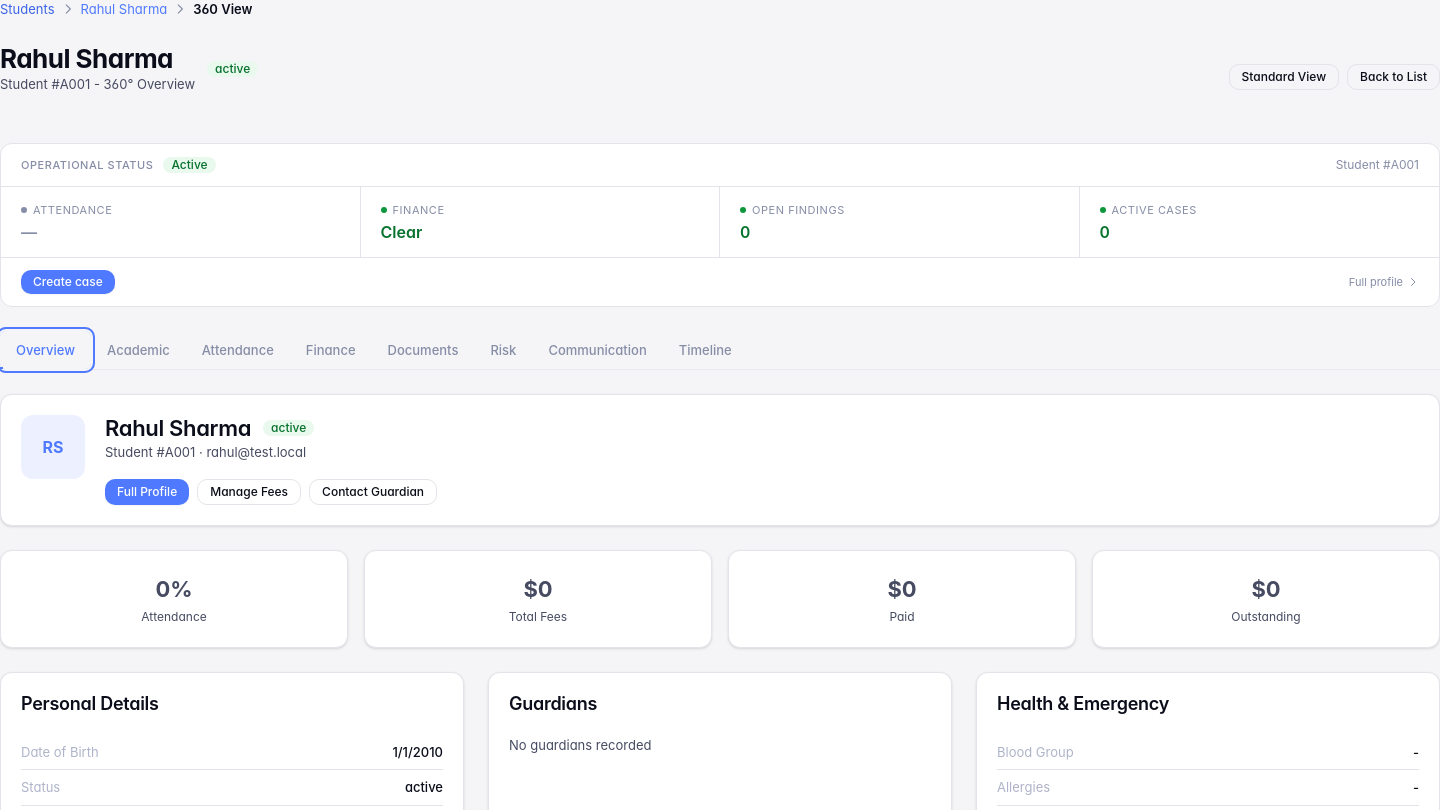
Test case: Student 360 page — lifecycle & documents › renders real documents in the Documents tab
This screenshot has width=1440, height=810.
Step 1. Click the tab "Documents" → point(423, 350), box [372,331,474,369]
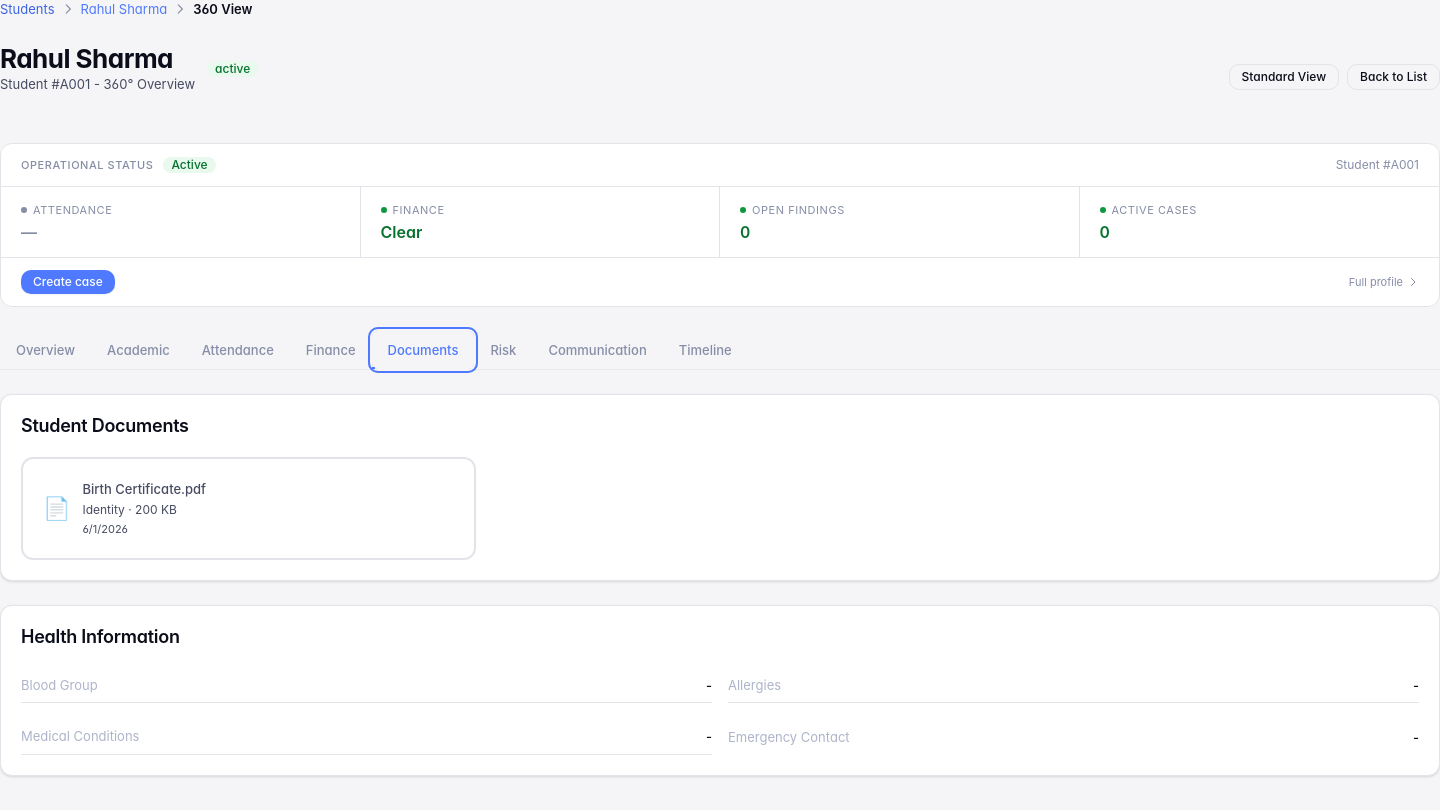
Expected: the text "Birth Certificate.pdf" is shown, [82,479,206,500]
Expected: the text "Identity · 200 KB" is shown, [82,502,177,517]
